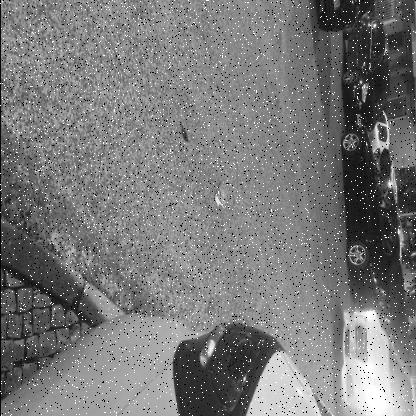cardboard: (214, 182, 226, 208)
